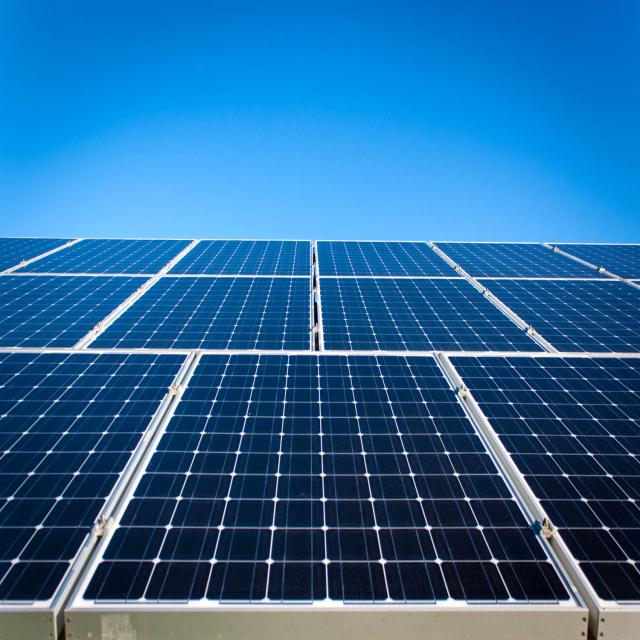crack: (64, 360, 578, 640), (430, 324, 640, 638), (0, 358, 208, 626), (95, 263, 339, 393), (303, 268, 549, 387), (168, 228, 326, 296), (303, 231, 467, 286)
